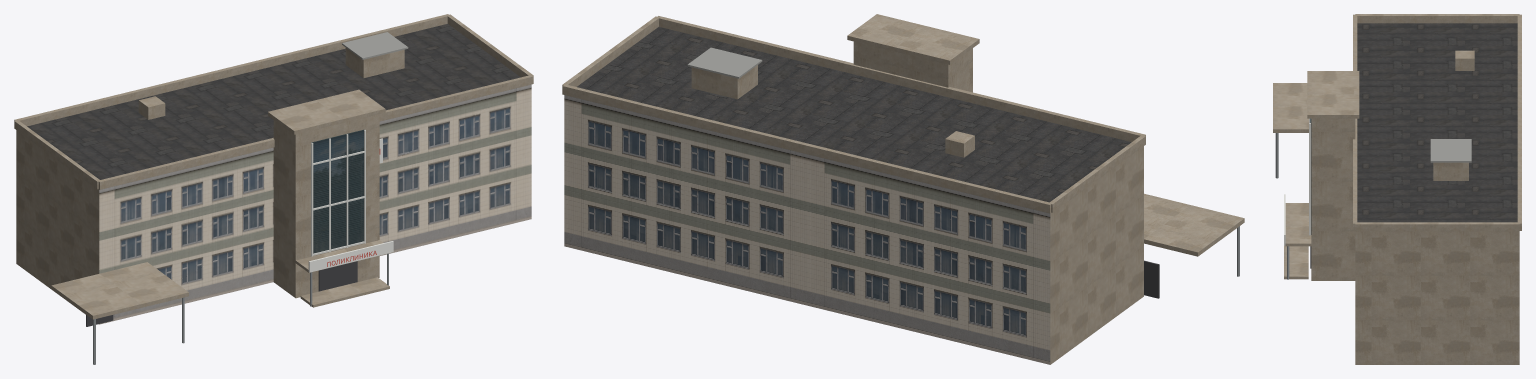
The model's file is polyclinic_1997.glb.
3 renders of one model, left to right at view 1: azimuth 30°, elevation 25°; view 2: azimuth 150°, elevation 25°; view 3: azimuth 270°, elevation 25°, orthographic. The views are drawn at different scales.
Visible parts, largest first — view 1: polyclinic_1997; view 2: polyclinic_1997; view 3: polyclinic_1997.
Part boxes in pixels (x1=…): polyclinic_1997: x1=14, y1=14, x2=533, y2=364; polyclinic_1997: x1=562, y1=14, x2=1244, y2=364; polyclinic_1997: x1=1273, y1=14, x2=1521, y2=364.
Bounding box in the file's own units: 40.16 × 13.5 × 18.16.
10 materials, 4 textured.
